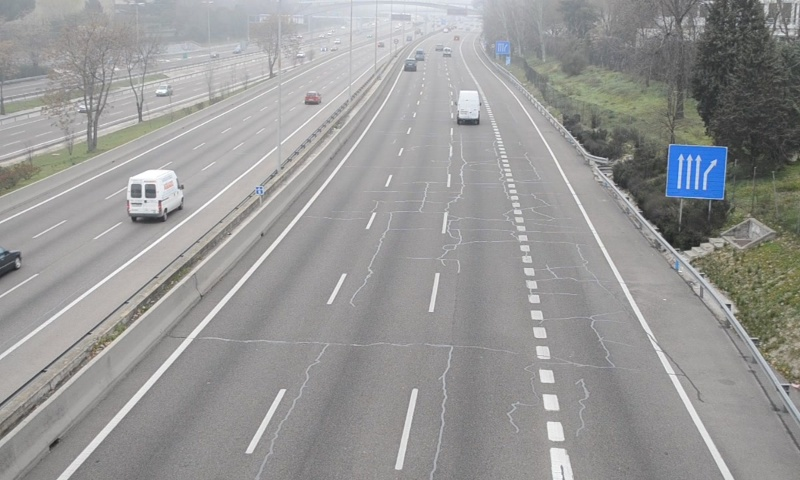van: (456, 89, 482, 126)
